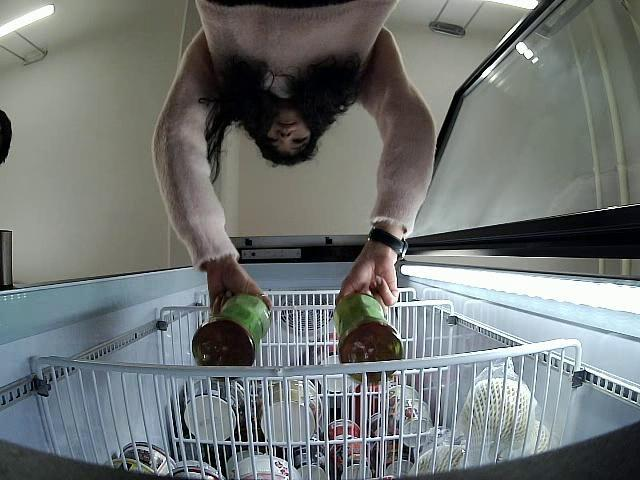19_17cha: (330, 292, 405, 386), (190, 294, 270, 364)
